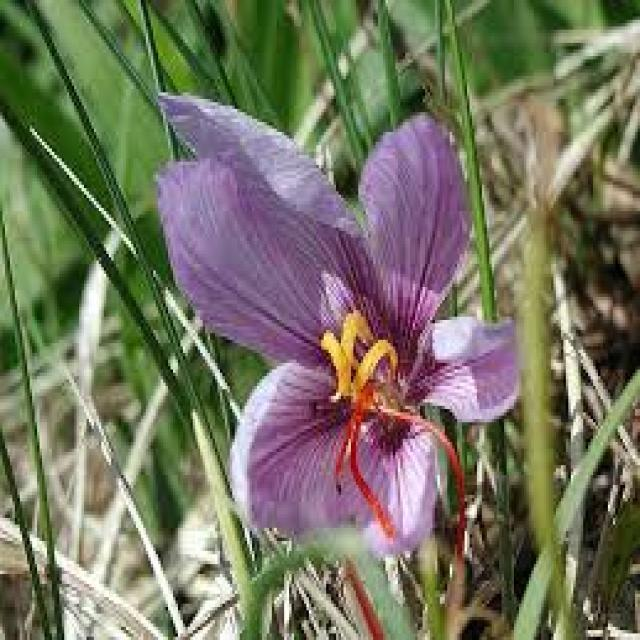Flower: (130, 56, 512, 624)
stigma: (408, 413, 472, 561), (336, 402, 398, 544)
